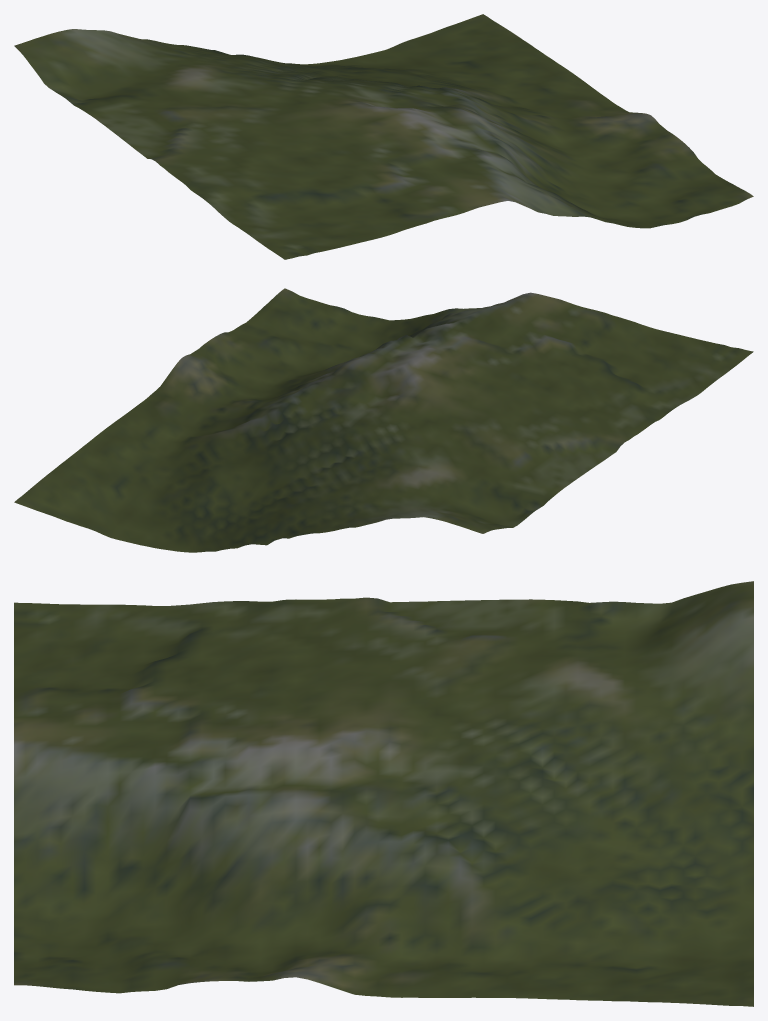
The model's file is TownLandscape_Mesh_x0125_1_2.fbx.
The picture shows the model from 3 angles, top to bottom: view 1: azimuth 30°, elevation 25°; view 2: azimuth 150°, elevation 25°; view 3: azimuth 270°, elevation 25°; orthographic projection. The views are drawn at different scales.
Parts seen in each view (by area): view 1: Terrain; view 2: Terrain; view 3: Terrain.
Part boxes in pixels (x1,y1,x2,y2): Terrain: [14, 14, 753, 259]; Terrain: [14, 288, 753, 552]; Terrain: [14, 581, 753, 1006].
Bounding box in the file's own units: 1024 × 205 × 1024.
